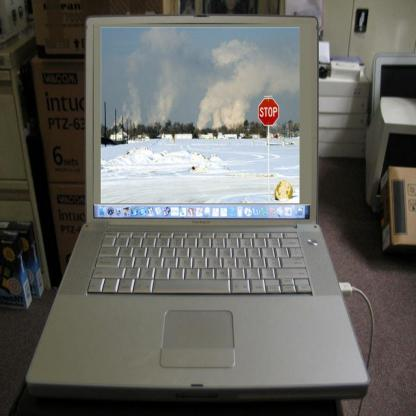board: (42, 2, 361, 406)
